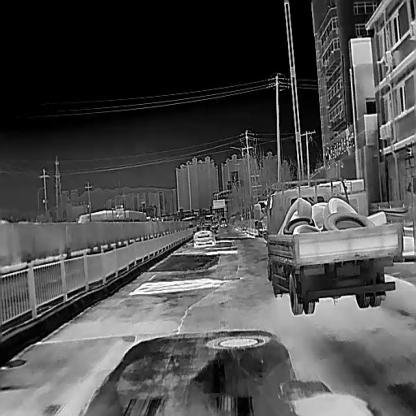car: (267, 176, 404, 314), (193, 224, 216, 246)
